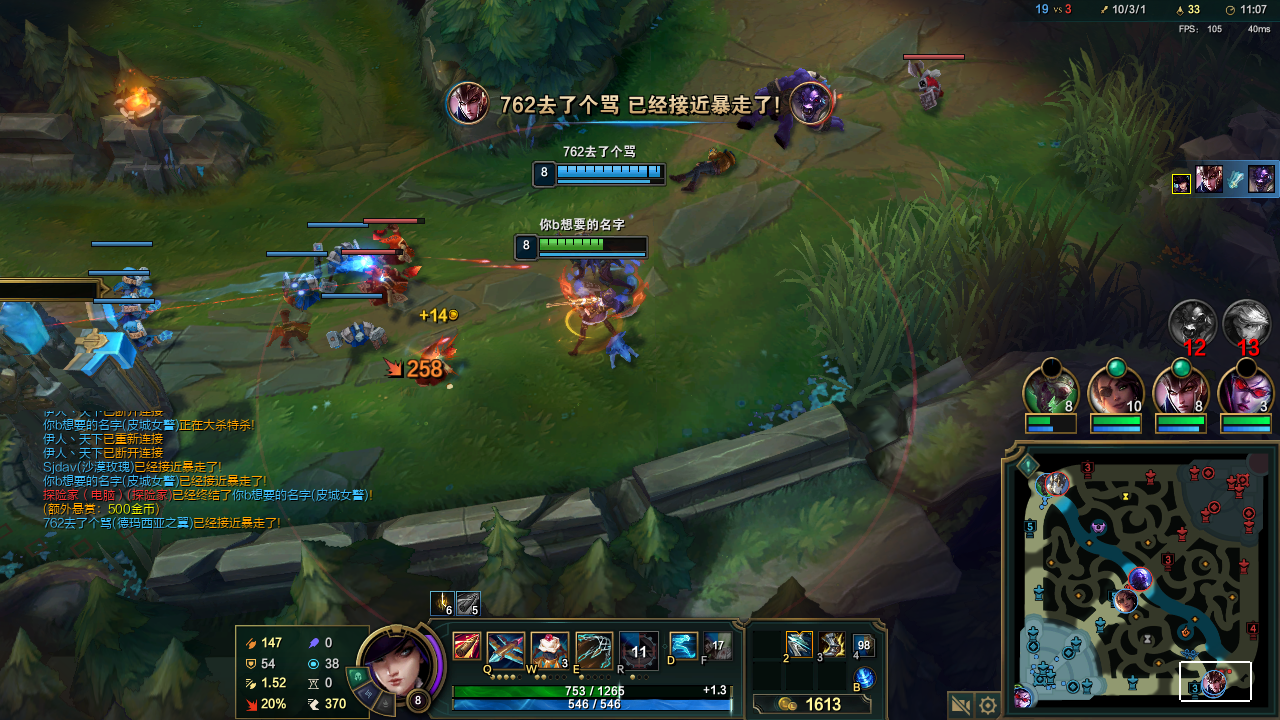DFXB: (909, 66, 951, 103), (364, 264, 405, 293), (385, 234, 412, 265)
WFXB: (329, 318, 396, 356), (112, 313, 173, 350), (316, 239, 363, 280), (285, 276, 333, 306), (112, 290, 154, 311), (114, 262, 144, 290)
